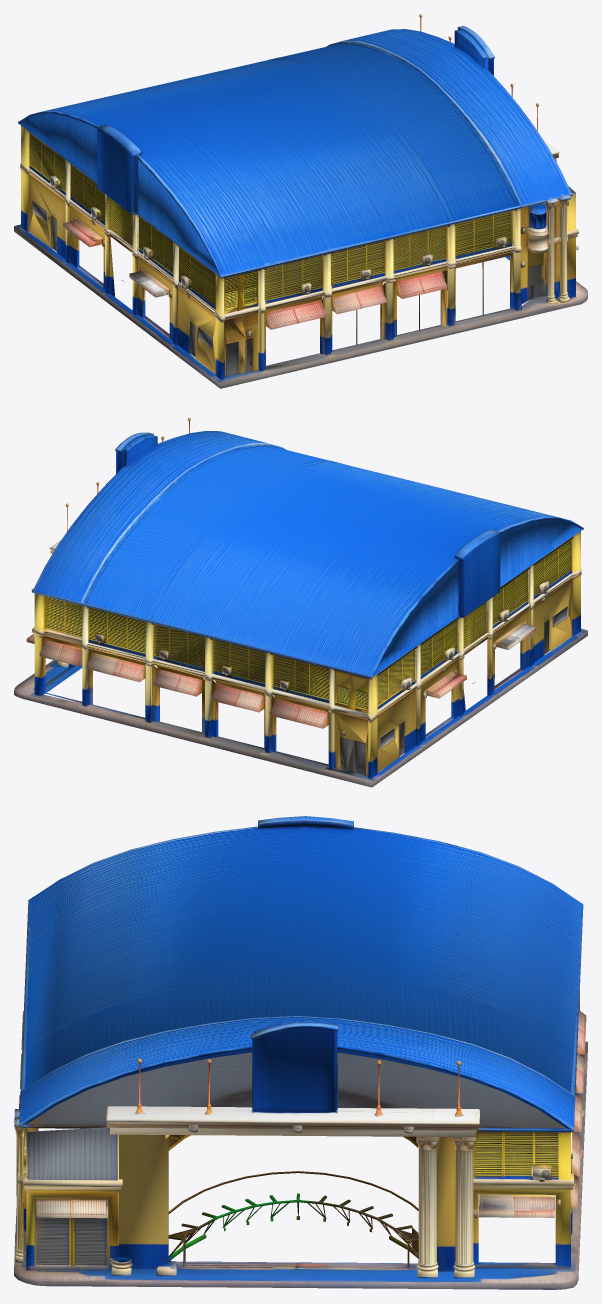
The model's file is olocuilta-market.glb.
3 renders of one model, top to bottom at view 1: azimuth 30°, elevation 25°; view 2: azimuth 150°, elevation 25°; view 3: azimuth 270°, elevation 25°, orthographic. The views are drawn at different scales.
Parts seen in each view (by area): view 1: tripo_part_3, tripo_part_15, tripo_part_23, tripo_part_17, tripo_part_22, tripo_part_25, tripo_part_26, tripo_part_2, tripo_part_214, tripo_part_78, tripo_part_85, tripo_part_84 (+10 smaller); view 2: tripo_part_3, tripo_part_14, tripo_part_23, tripo_part_22, tripo_part_17, tripo_part_25, tripo_part_31, tripo_part_26, tripo_part_188, tripo_part_201, tripo_part_78, tripo_part_87 (+9 smaller); view 3: tripo_part_3, tripo_part_42, tripo_part_23, tripo_part_46, tripo_part_127, tripo_part_44, tripo_part_31, tripo_part_24, tripo_part_231, tripo_part_7, tripo_part_8, tripo_part_113 (+6 smaller).
Boxes of the visible parts, x1,y1,x2,y2 form: tripo_part_3: (18,29,572,309); tripo_part_15: (259,208,521,370); tripo_part_23: (14,224,587,388); tripo_part_17: (178,270,259,379); tripo_part_22: (20,125,65,258); tripo_part_25: (97,124,141,214); tripo_part_26: (65,160,138,315); tripo_part_2: (74,167,571,301); tripo_part_214: (520,206,546,304); tripo_part_78: (135,214,173,340); tripo_part_85: (266,300,326,329); tripo_part_84: (332,286,386,314); tripo_part_3: (32,431,583,678); tripo_part_14: (81,605,368,769); tripo_part_23: (14,628,587,787); tripo_part_22: (334,670,417,778); tripo_part_17: (533,531,581,662); tripo_part_25: (455,529,500,617); tripo_part_31: (31,593,82,703); tripo_part_26: (416,597,493,745); tripo_part_188: (88,607,145,654); tripo_part_201: (377,649,416,706); tripo_part_78: (492,604,530,691); tripo_part_87: (86,652,145,682); tripo_part_3: (19,826,583,1131); tripo_part_42: (20,912,581,1132); tripo_part_23: (14,1041,587,1289); tripo_part_46: (106,1106,479,1137); tripo_part_127: (119,1134,455,1271); tripo_part_44: (22,1127,122,1270); tripo_part_31: (473,1125,574,1269); tripo_part_24: (250,1022,338,1113); tripo_part_231: (36,1199,108,1265); tripo_part_7: (452,1137,475,1265); tripo_part_8: (416,1136,439,1264); tripo_part_113: (479,1194,554,1217).
Size of the model in its own units: 1.01 by 0.4767 by 0.9808.
240 materials, 240 textured.
